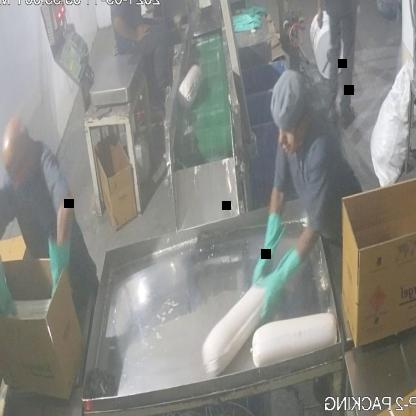glove: (250, 214, 281, 283), (110, 10, 155, 51), (0, 255, 16, 326), (314, 0, 328, 33)
